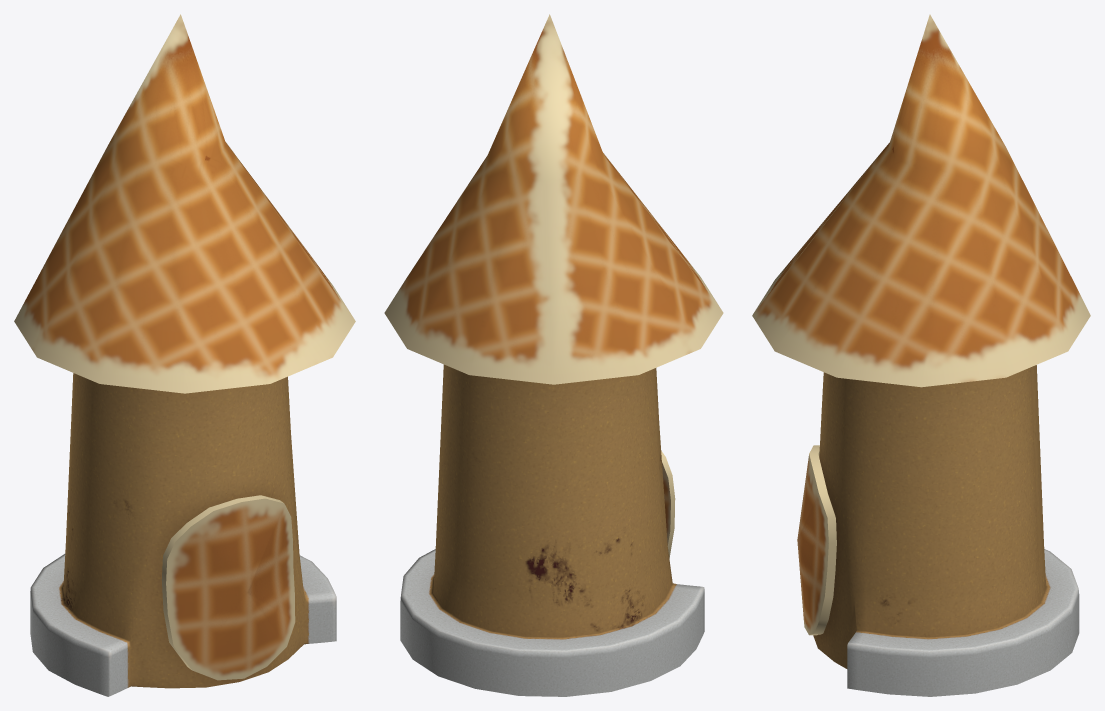
File: Mod_Tour_1.gltf
The picture shows the model from 3 angles, left to right: view 1: azimuth 30°, elevation 25°; view 2: azimuth 150°, elevation 25°; view 3: azimuth 270°, elevation 25°; orthographic projection.
Parts seen in each view (by area): view 1: Tour_1; view 2: Tour_1; view 3: Tour_1.
Boxes of the visible parts, x1,y1,x2,y2 form: Tour_1: [14, 14, 355, 696]; Tour_1: [384, 14, 723, 696]; Tour_1: [752, 14, 1090, 696].
Size of the model in its own units: 6.91 by 13.94 by 6.91.
